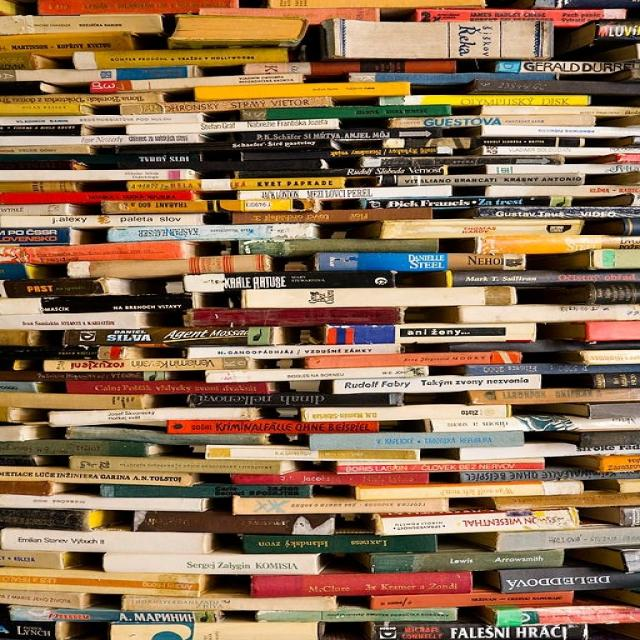book: (244, 288, 516, 308), (3, 531, 205, 557), (0, 490, 208, 514), (251, 576, 469, 598), (52, 405, 274, 426), (209, 365, 431, 385), (243, 533, 434, 556), (235, 496, 448, 516), (203, 271, 399, 291), (192, 308, 401, 326), (107, 226, 312, 244), (197, 80, 412, 97), (460, 304, 634, 325), (63, 379, 272, 396), (1, 312, 180, 331), (169, 418, 379, 434), (240, 237, 442, 253), (1, 14, 163, 33), (305, 350, 519, 364), (36, 0, 233, 15), (4, 611, 221, 624), (127, 121, 340, 134), (455, 269, 638, 283), (382, 94, 590, 106), (229, 212, 432, 224), (238, 190, 446, 200), (394, 176, 575, 187)
